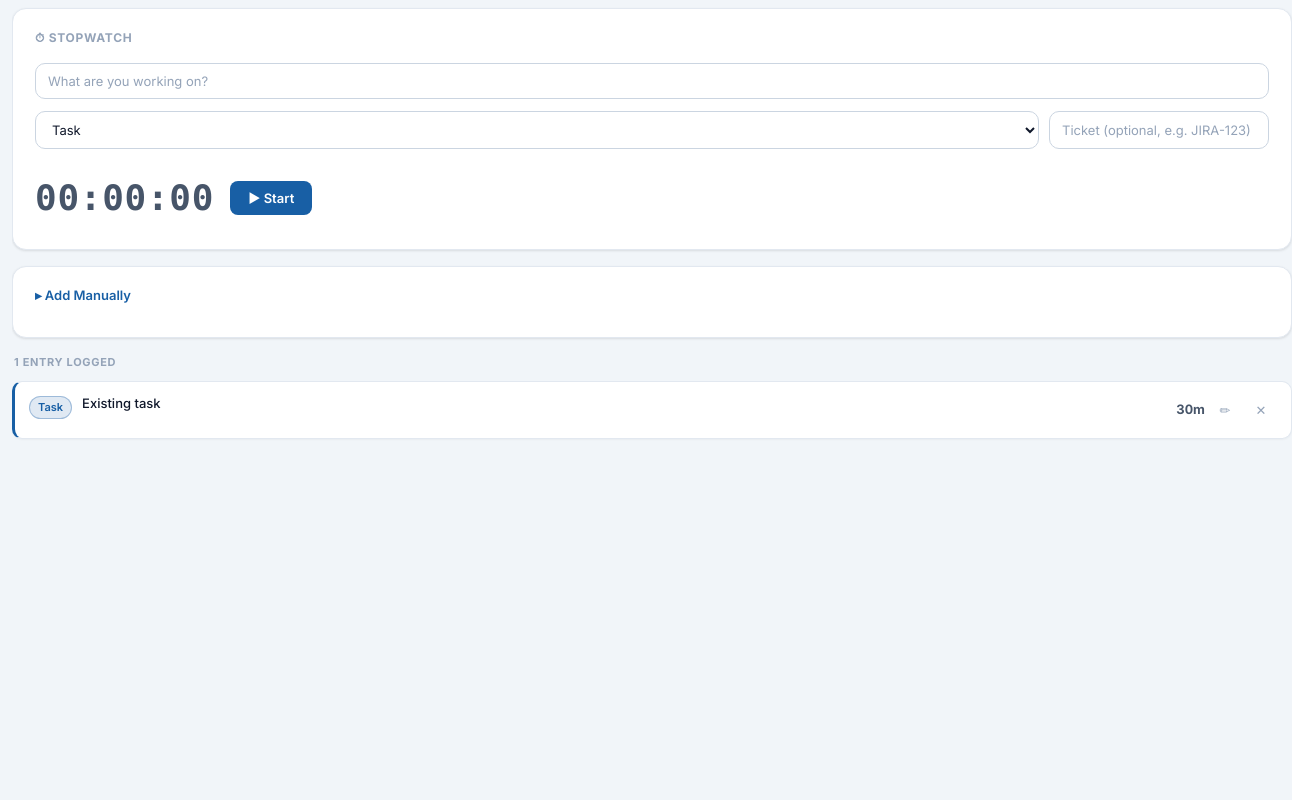
Test: LogTab manual entry form › blocks submission with mins below 1
Click the button "▸ Add Manually" at (83, 295), box [35,287,131,303]
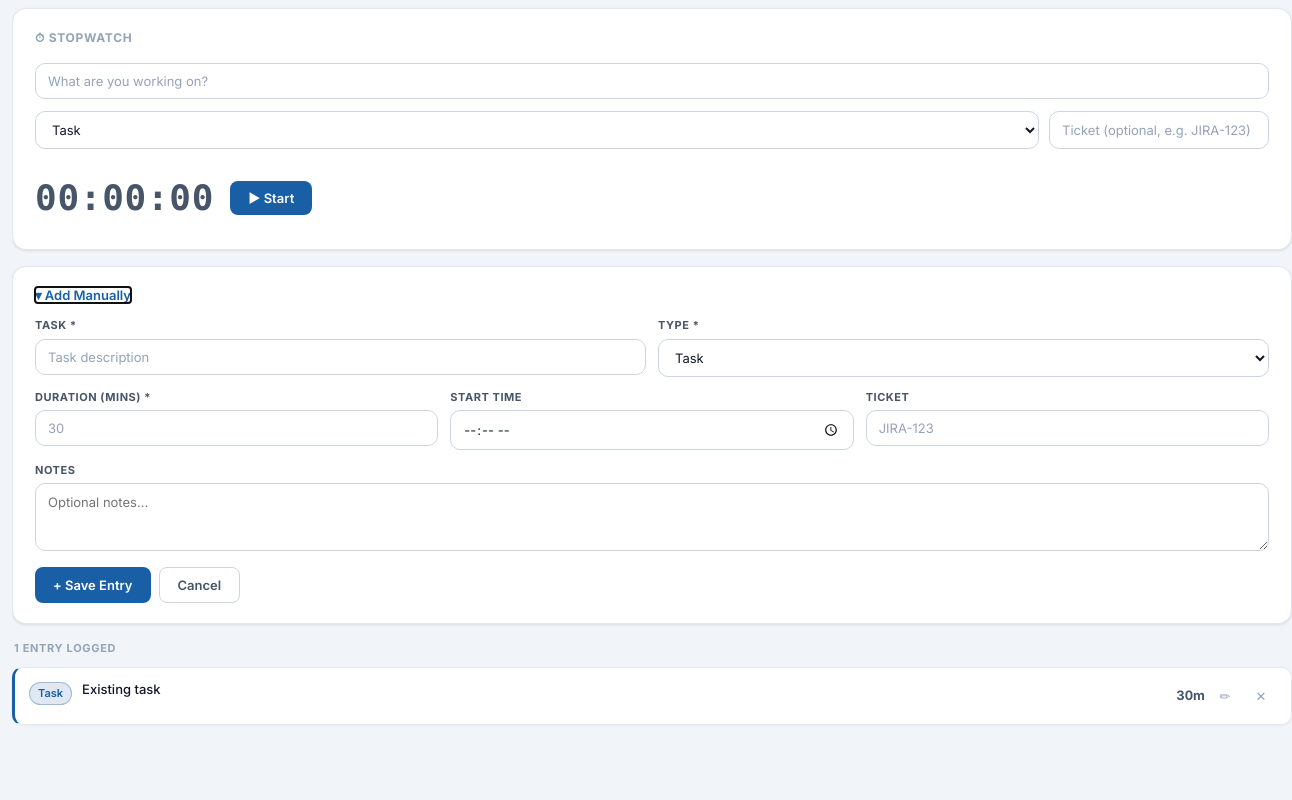
Type "New task" into the field with placeholder "Task description" at (340, 356), box [35,338,646,374]
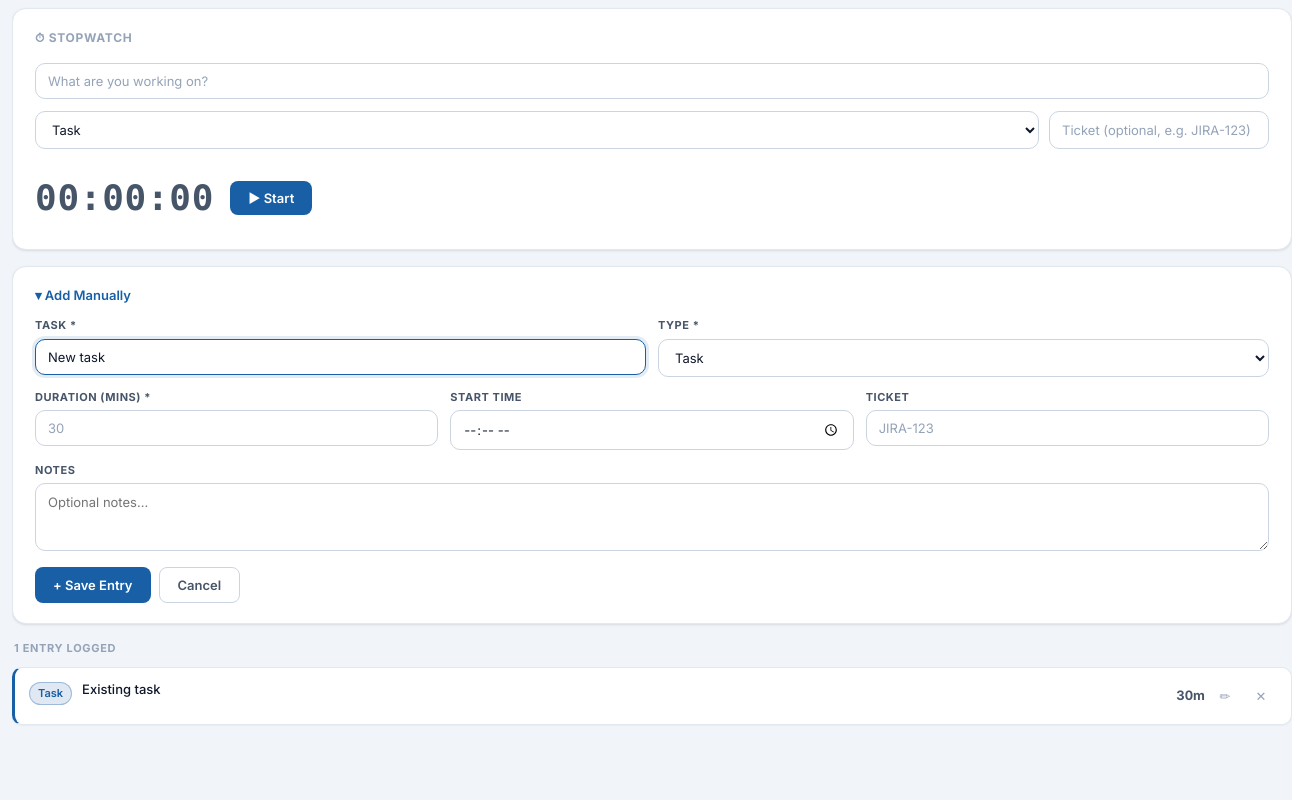
Click the button "+ Save Entry" at (93, 585), box [35,567,150,603]
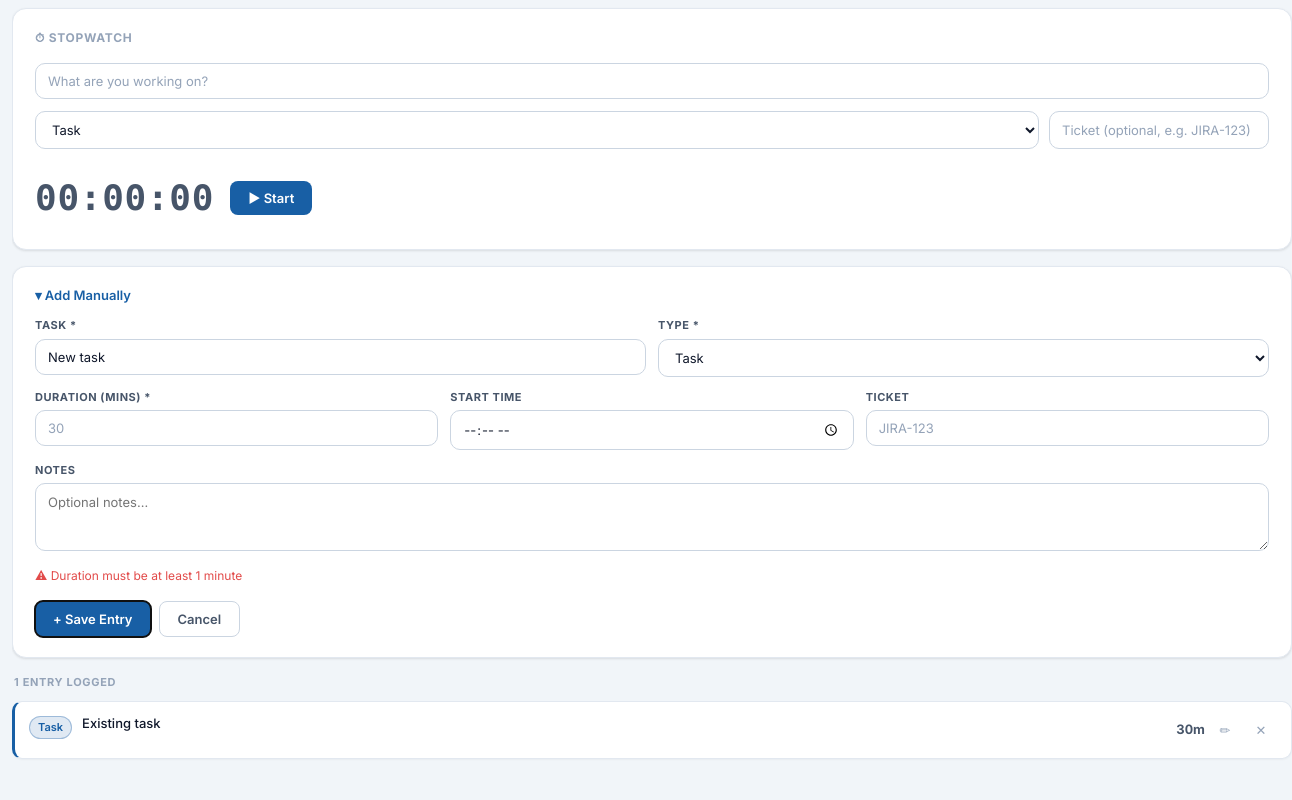
Expected: the text "⚠ Duration must be at least 1 minute" is shown, [35,568,242,583]
